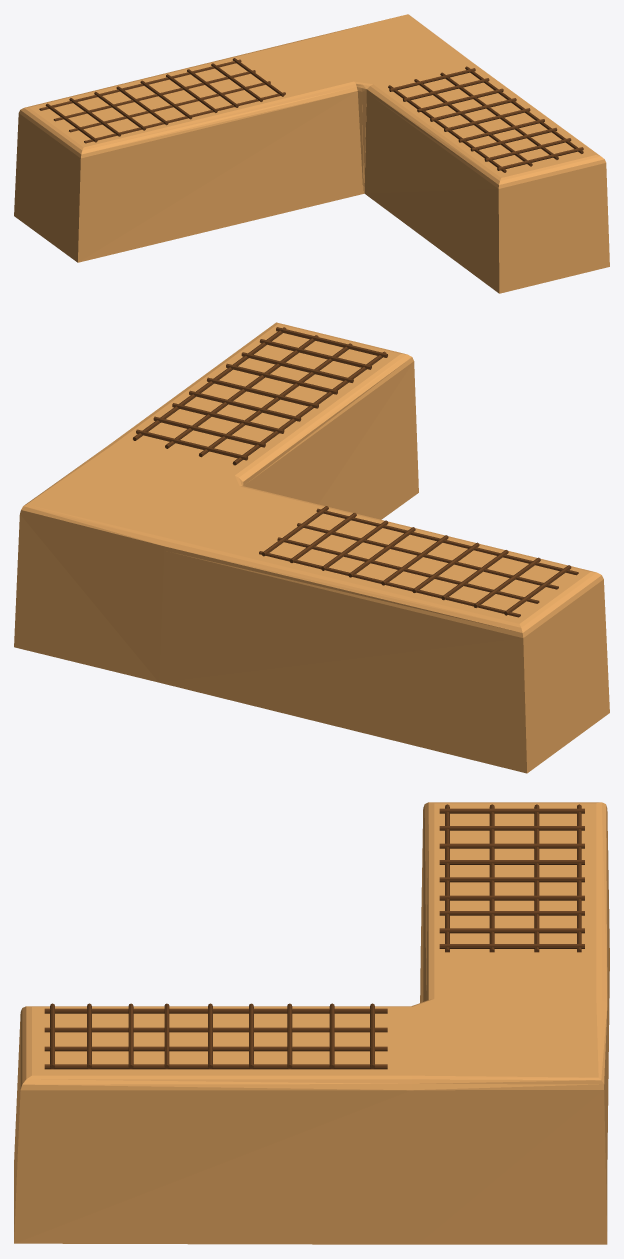
The model's file is Kitchen Table L Shape.fbx.
3 views of the same model, one above another, from view 1: azimuth 30°, elevation 25°; view 2: azimuth 150°, elevation 25°; view 3: azimuth 270°, elevation 25° (orthographic). The views are drawn at different scales.
Parts seen in each view (by area): view 1: Kitchen Table L Shape; view 2: Kitchen Table L Shape; view 3: Kitchen Table L Shape.
Boxes of the visible parts, box(x1,y1,x2,y2) form: Kitchen Table L Shape: box(14, 14, 609, 293); Kitchen Table L Shape: box(14, 322, 609, 773); Kitchen Table L Shape: box(14, 802, 609, 1244).
Size of the model in its own units: 311 by 85.33 by 273.
